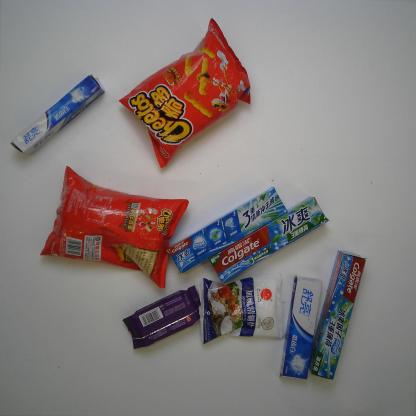Dessert: (122, 282, 204, 352)
Personal Hygiene: (165, 184, 289, 276), (210, 193, 330, 285), (9, 73, 106, 155), (309, 249, 368, 382), (278, 273, 324, 384)
Puffed Food: (117, 14, 252, 170), (38, 162, 191, 290)
Seasoner: (192, 274, 288, 346)
